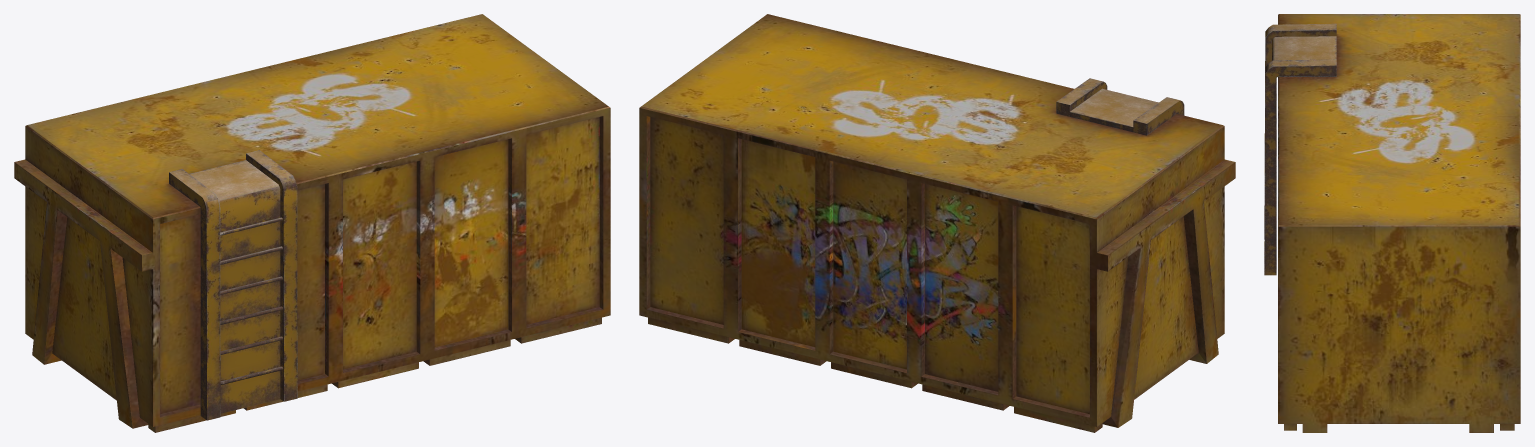
The model's file is container.glb.
3 renders of one model, left to right at view 1: azimuth 30°, elevation 25°; view 2: azimuth 150°, elevation 25°; view 3: azimuth 270°, elevation 25°, orthographic. The views are drawn at different scales.
Parts seen in each view (by area): view 1: Cube.010, Cube.011; view 2: Cube.010, Cube.011; view 3: Cube.010, Cube.011.
Boxes of the visible parts, <box> form: Cube.010: <box>14,14,610,432</box>; Cube.011: <box>169,150,297,420</box>; Cube.010: <box>639,14,1235,432</box>; Cube.011: <box>1056,78,1184,135</box>; Cube.010: <box>1278,14,1520,432</box>; Cube.011: <box>1264,23,1336,275</box>.
Bounding box in the file's own units: 203 × 95.21 × 101.
2 materials, 2 textured.
